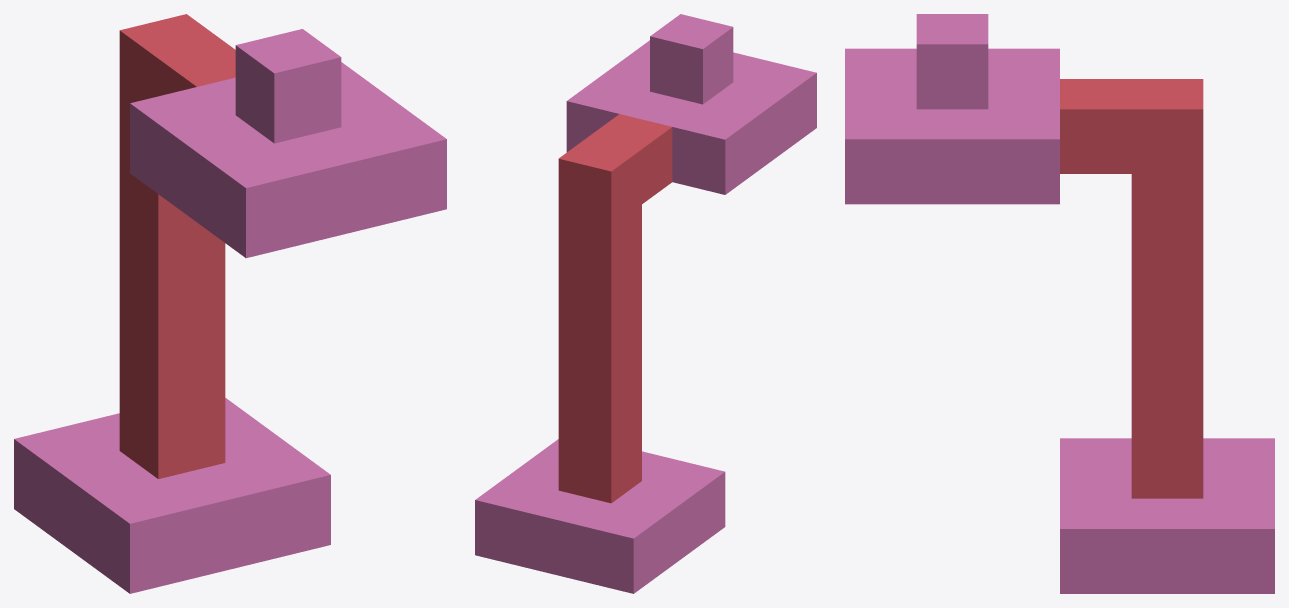
The model's file is desk_lamp.obj.
3 views of the same model, side by side, from view 1: azimuth 30°, elevation 25°; view 2: azimuth 150°, elevation 25°; view 3: azimuth 270°, elevation 25° (orthographic). The views are drawn at different scales.
Bounding box in the file's own units: 3 × 8 × 6.
Materials: 1 (1 with a texture image).
